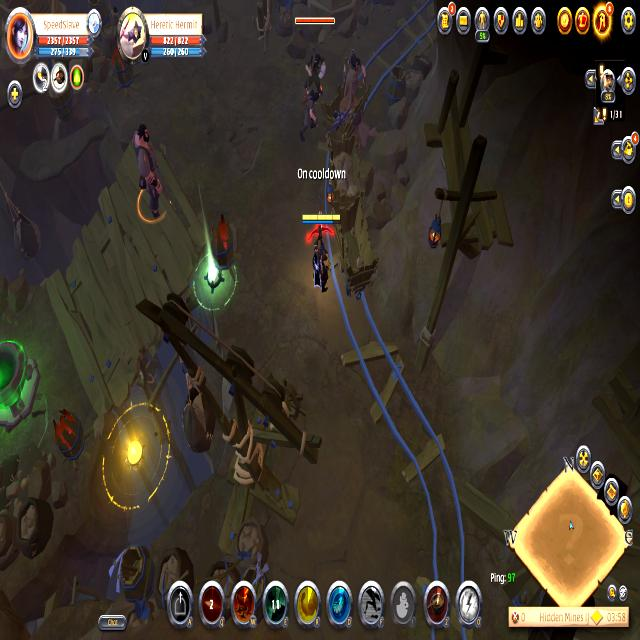ore: (131, 122, 169, 225), (294, 12, 335, 101), (293, 83, 327, 143), (336, 44, 368, 88)
red: (301, 210, 341, 300)
